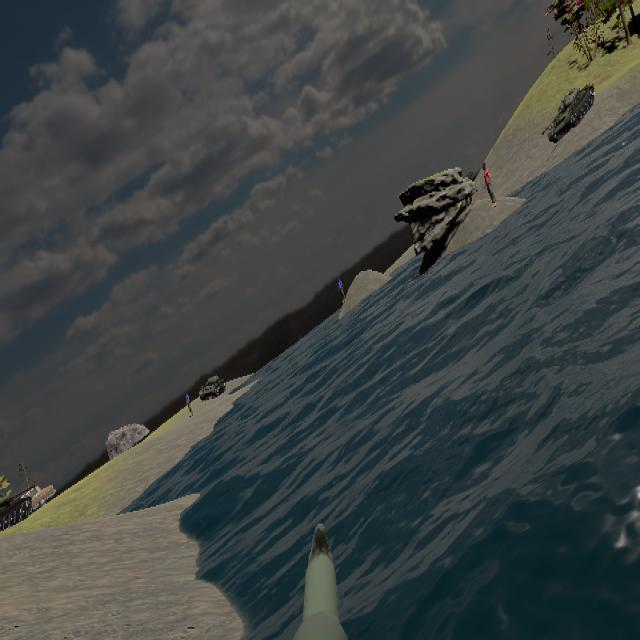Tank: (542, 83, 595, 143), (0, 485, 38, 535), (200, 371, 227, 402)
car: (30, 483, 56, 514)
